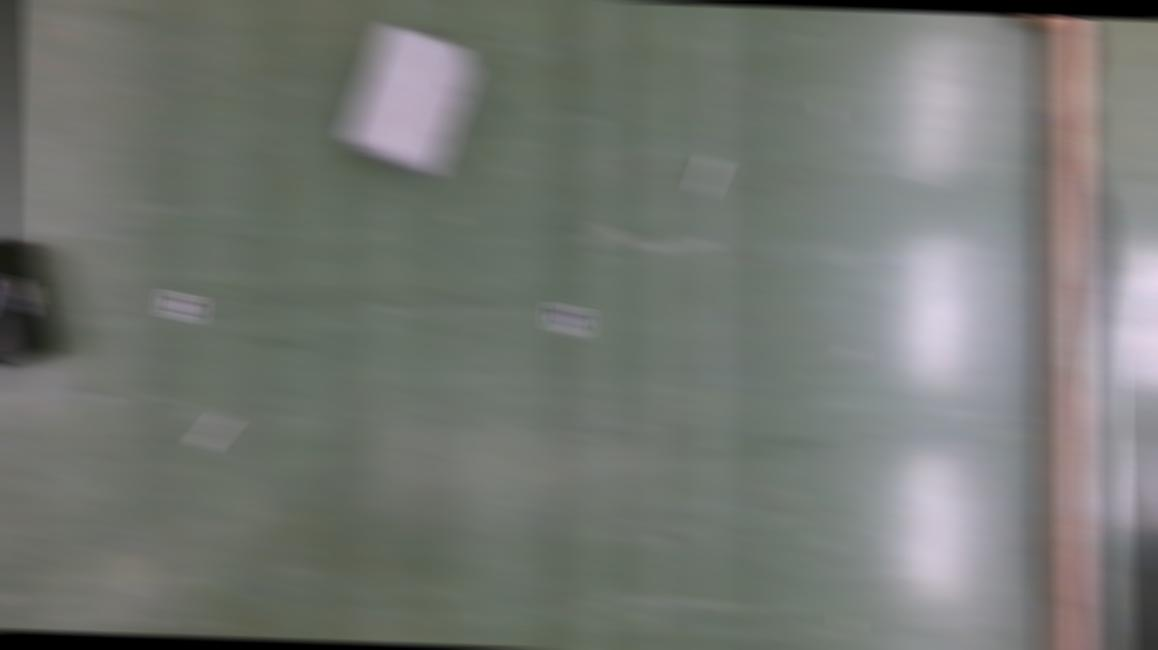probes: (192, 411, 233, 452), (690, 154, 722, 199)
rako: (338, 20, 478, 180), (0, 234, 65, 378)
